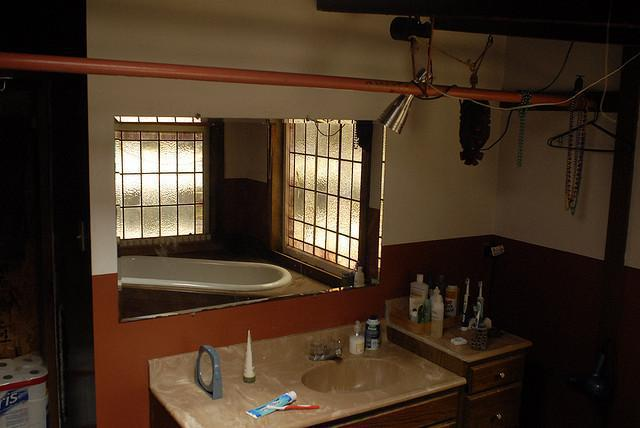Lavamanos: (296, 330, 409, 398)
